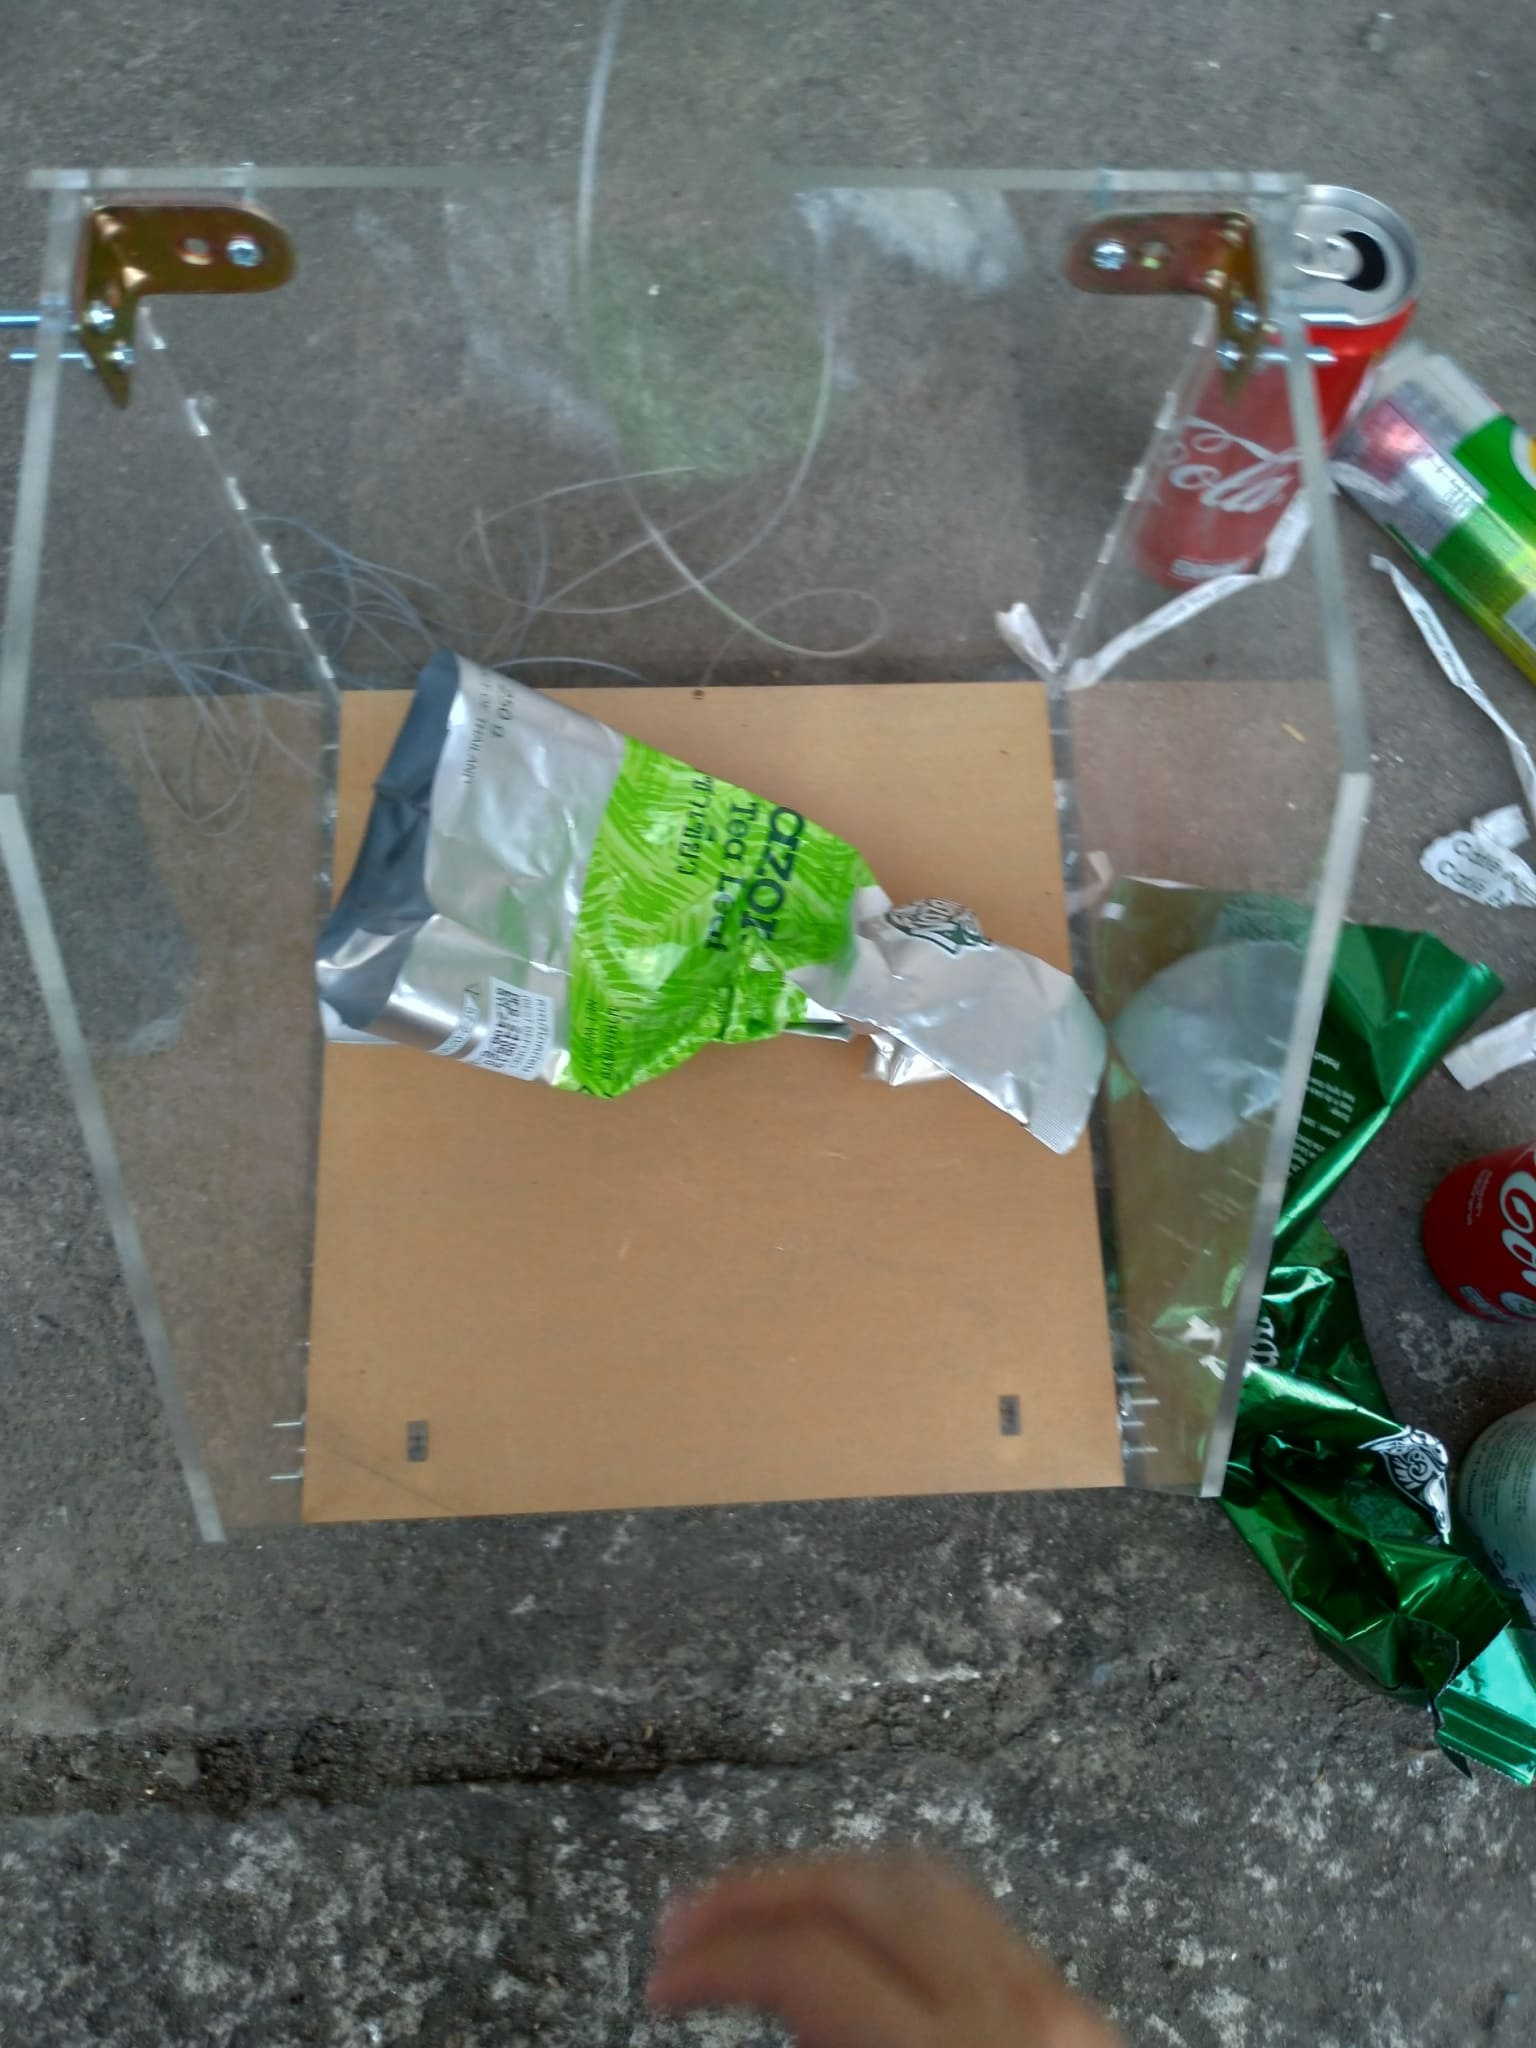AlCan: (1129, 181, 1407, 589), (1333, 348, 1536, 689), (1418, 1148, 1536, 1305)
Others: (300, 651, 1094, 1168), (1100, 864, 1536, 1787)
